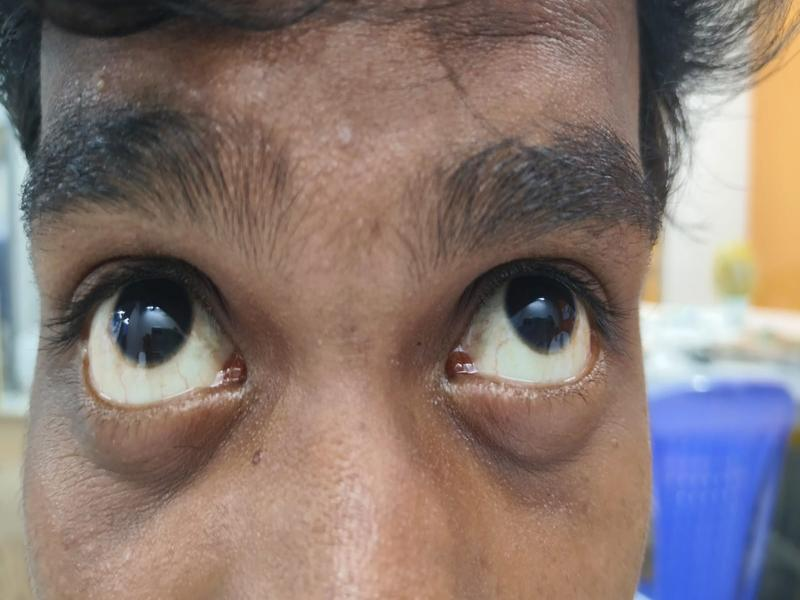EYE UP: (83, 280, 230, 398), (457, 278, 595, 382)
